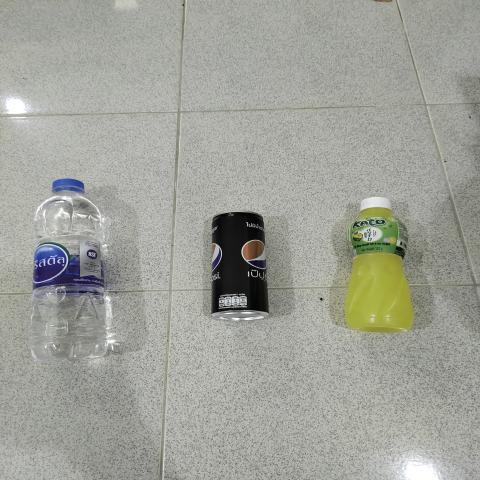crystal: (30, 172, 102, 358)
pepsi_black: (204, 204, 268, 316)
